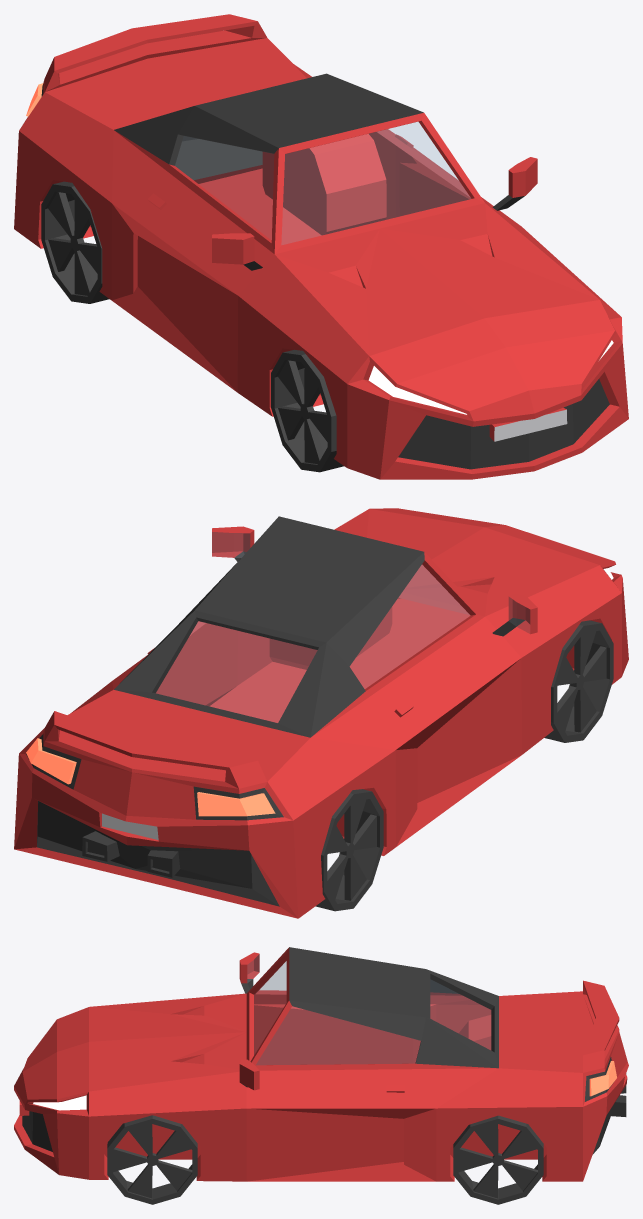
The model's file is sports.glb.
The picture shows the model from 3 angles, top to bottom: view 1: azimuth 30°, elevation 25°; view 2: azimuth 150°, elevation 25°; view 3: azimuth 270°, elevation 25°; orthographic projection. The views are drawn at different scales.
Visible parts, largest first — view 1: Sports, Sports wheel front right, Sports wheel rear right; view 2: Sports, Sports wheel front right, Sports wheel rear right; view 3: Sports, Sports wheel front left, Sports wheel rear left.
Boxes of the visible parts, x1,y1,x2,y2 form: Sports: (14, 14, 628, 479); Sports wheel front right: (271, 349, 343, 472); Sports wheel rear right: (41, 181, 109, 303); Sports: (14, 508, 628, 918); Sports wheel front right: (544, 620, 613, 742); Sports wheel rear right: (315, 789, 383, 911); Sports: (14, 947, 628, 1181); Sports wheel front left: (107, 1115, 197, 1204); Sports wheel rear left: (453, 1115, 543, 1204).
Size of the model in its own units: 2.63 by 1.84 by 5.73.
